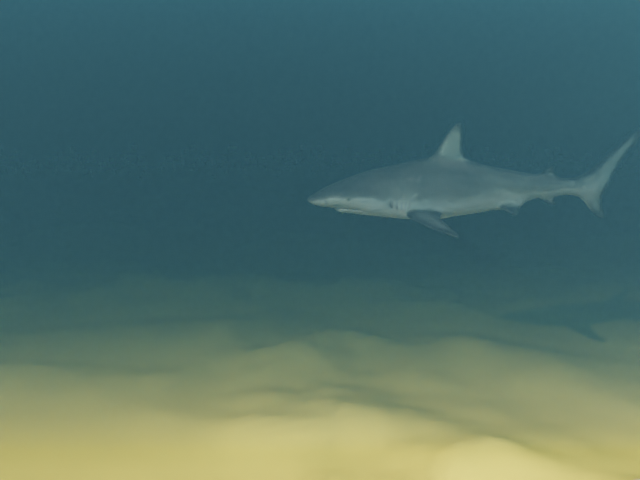Carribean Shark.001: (307, 122, 640, 237)
